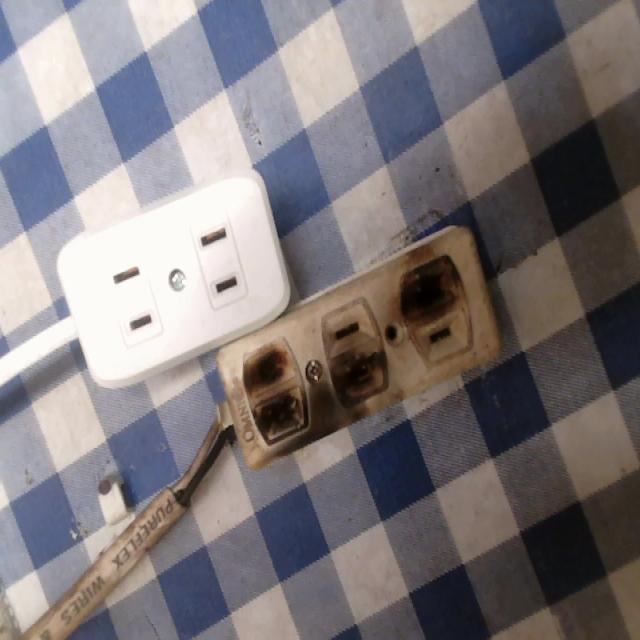-: (233, 329, 316, 455), (331, 348, 401, 424), (395, 247, 466, 317)
